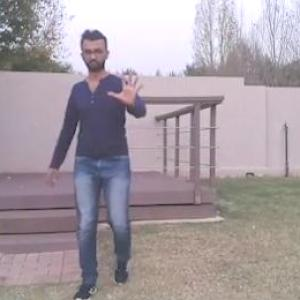follow_hand: (107, 65, 149, 107)
